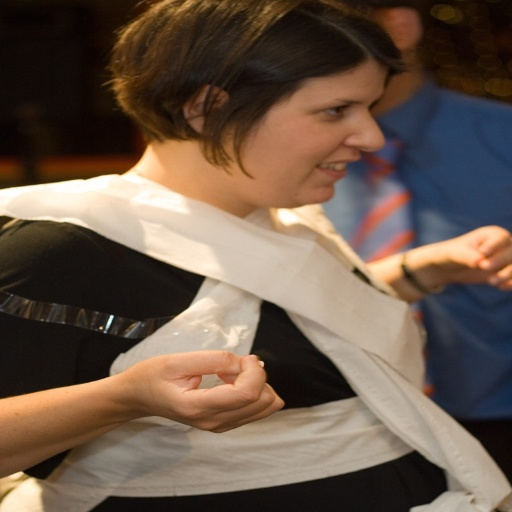hand: (112, 330, 277, 430), (417, 224, 511, 294)
